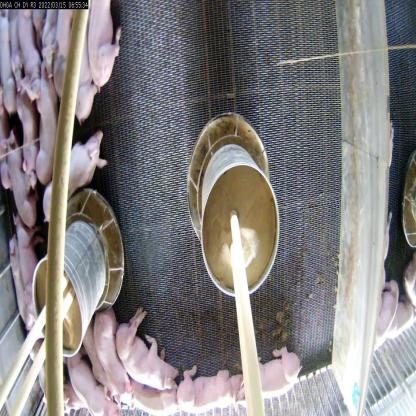Pig: (46, 128, 106, 215), (4, 249, 51, 356), (117, 312, 175, 394), (237, 340, 302, 407), (25, 69, 57, 180), (178, 366, 243, 416), (91, 303, 130, 383), (86, 1, 120, 92), (5, 131, 35, 222), (68, 347, 104, 415), (128, 379, 176, 416), (13, 212, 40, 267)
